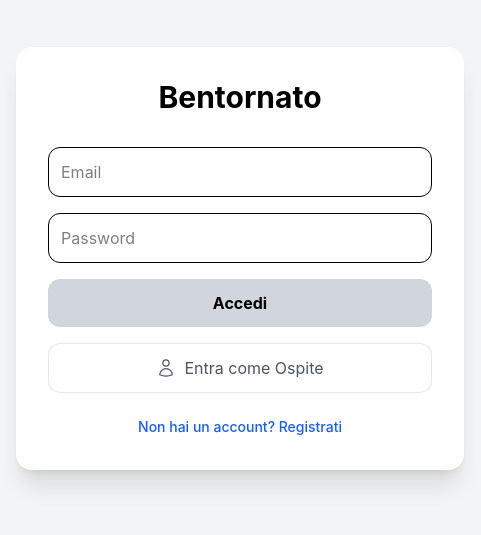
Test: AuthScreen › mostra errore di connessione quando fetch fallisce
Type "test@example.com" into the field with placeholder "Email" at (240, 172), box [48,146,432,196]
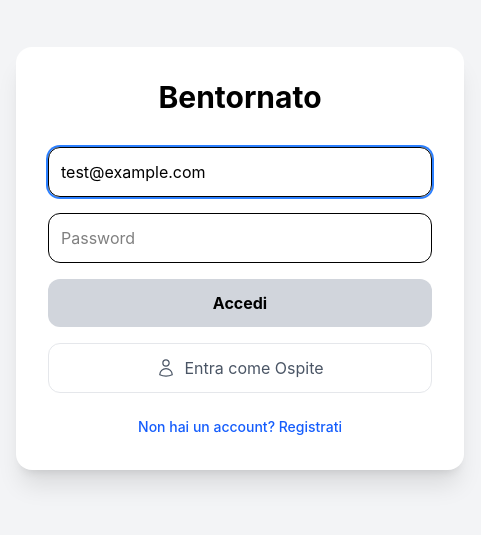
Type "Password123" into the password field with placeholder "Password" at (240, 238), box [48,212,432,262]
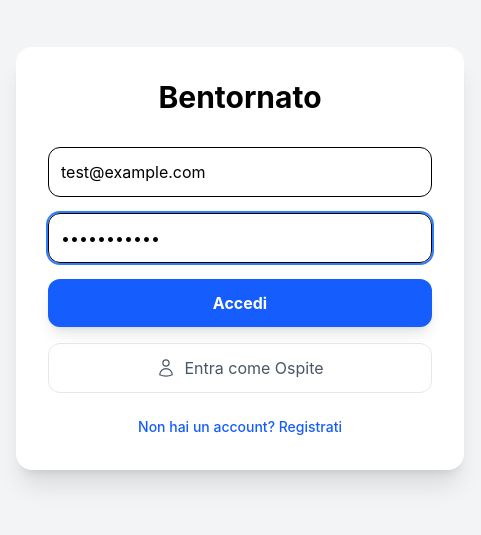
Click the button "Accedi" at (240, 302), box [48,278,432,326]
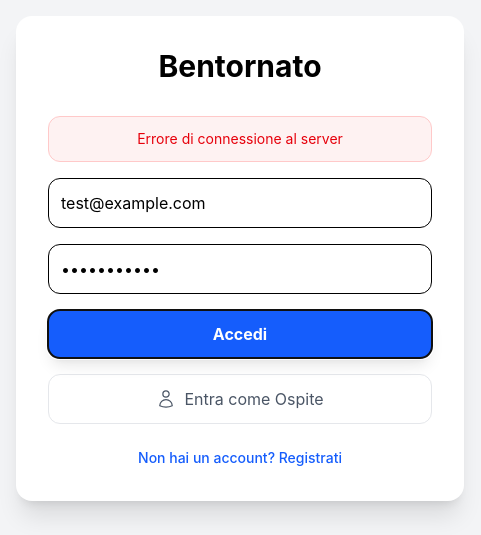
Check: the text "Errore di connessione al server" is shown, box [48,116,432,162]
